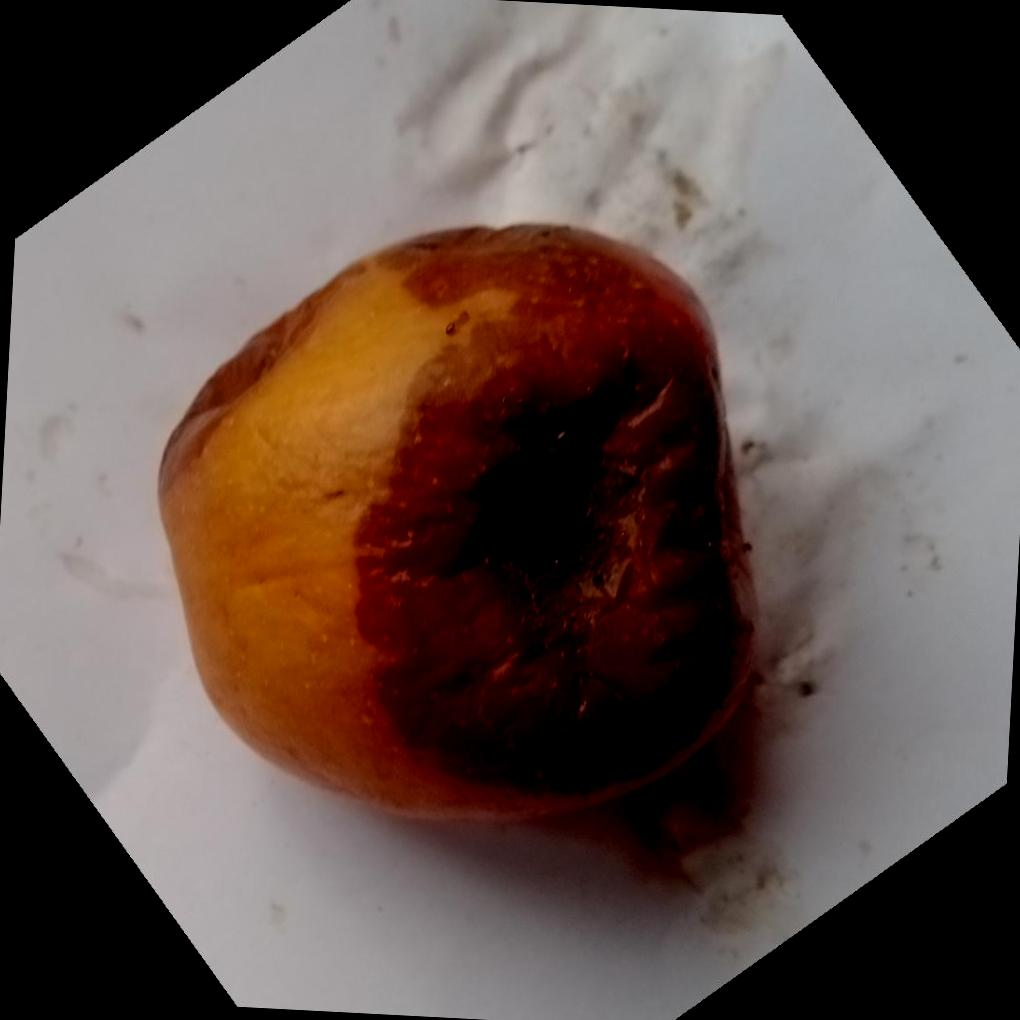FreshOrange: (157, 218, 761, 822)
